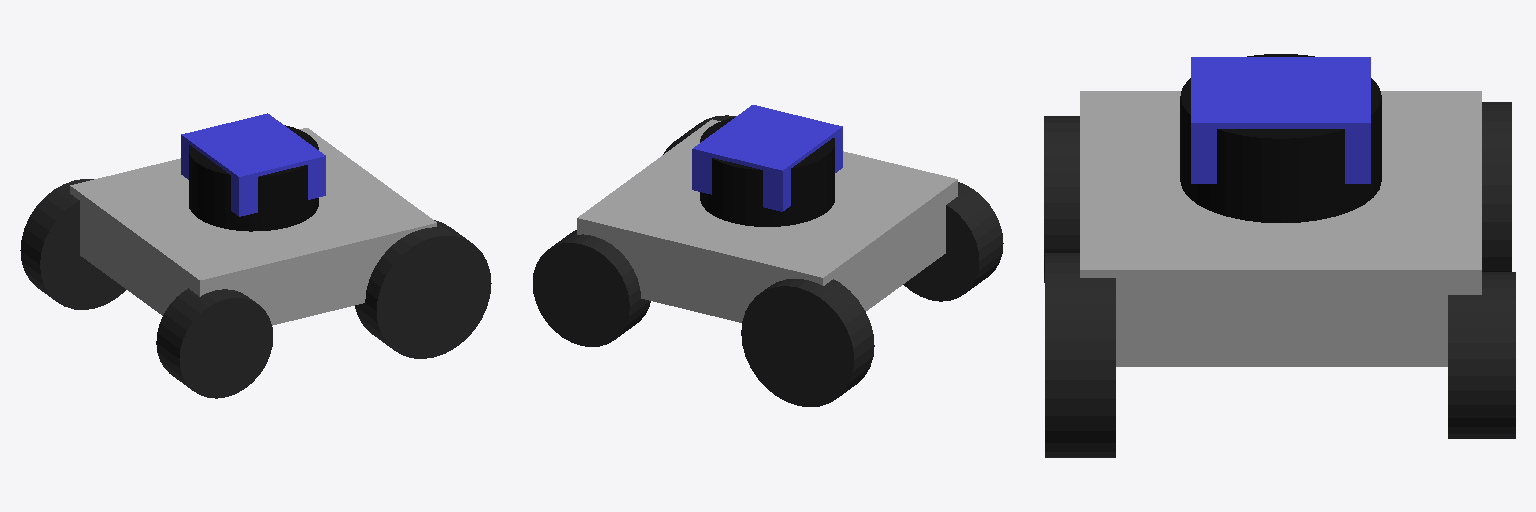
robot.urdf — evolved_robot:
<?xml version="1.0"?>
<robot name="evolved_robot">
  <material name="metal">
    <color rgba="0.7 0.7 0.7 1.0"/>
  </material>
  <material name="plastic">
    <color rgba="0.3 0.3 0.9 1.0"/>
  </material>
  <material name="rubber">
    <color rgba="0.1 0.1 0.1 1.0"/>
  </material>
  <material name="red">
    <color rgba="1.0 0.0 0.0 1.0"/>
  </material>
  <material name="wheel_material">
    <color rgba="0.2 0.2 0.2 1.0"/>
  </material>
  <link name="base_link">
    <visual>
      <geometry><box size="0.31971039084063424 0.30339100369254823 0.08068832829829782"/></geometry>
      <material name="metal"/>
    </visual>
    <collision>
      <geometry><box size="0.31971039084063424 0.30339100369254823 0.08068832829829782"/></geometry>
    </collision>
    <inertial>
      <mass value="5.0"/>
      <inertia ixx="0.08213058953762142" ixy="0" ixz="0" 
               iyy="0.09060445027920416" iyz="0" 
               izz="0.16188402927753578"/>
    </inertial>
  </link>
  <link name="link1">
    <visual>
      <geometry><cylinder radius="0.0760733366416902" length="0.14081779537643838"/></geometry>
      <material name="rubber"/>
    </visual>
    <collision>
      <geometry><cylinder radius="0.0760733366416902" length="0.14081779537643838"/></geometry>
    </collision>
    <inertial>
      <mass value="0.5"/>
      <inertia ixx="0.00309925909484002" ixy="0" ixz="0" 
               iyy="0.00309925909484002" iyz="0" 
               izz="0.0028935762738999627"/>
    </inertial>
  </link>
  <joint name="joint1" type="revolute">
    <parent link="base_link"/>
    <child link="link1"/>
    <origin xyz="0 0 0.04034416414914891" rpy="0 0 0"/>
    <axis xyz="-0.7854588657445142 -0.3565487144176985 0.5058926610165715"/>
    <dynamics damping="0.7728480284695484" friction="0.1"/>
    <limit lower="-2.146331162029103" upper="1.2717079639294546" effort="100" velocity="100"/>
  </joint>
  <link name="link2">
    <visual>
      <geometry>
        <cylinder radius="0.06322985314573629" length="0.05091720566736713"/>
      </geometry>
      <material name="wheel_material"/>
    </visual>
    <collision>
      <geometry>
        <cylinder radius="0.06322985314573629" length="0.05091720566736713"/>
      </geometry>
    </collision>
    <inertial>
      <mass value="1.0"/>
      <inertia ixx="0.001215550401622258" ixy="0" ixz="0" 
               iyy="0.001215550401622258" iyz="0" 
               izz="0.0019990071644156887"/>
    </inertial>
  </link>
  <joint name="joint2" type="continuous">
    <parent link="base_link"/>
    <child link="link2"/>
    <origin xyz="0.13985519542031713 0.15169550184627412 -0.04034416414914891" rpy="1.5708 0 0"/>
    <axis xyz="0 1 0"/>
    <dynamics damping="0.6237323492205411" friction="0.1"/>
  </joint>
  <link name="link3">
    <visual>
      <geometry><box size="0.11700741769070341 0.1357253377311918 0.051297581895815625"/></geometry>
      <material name="plastic"/>
    </visual>
    <collision>
      <geometry><box size="0.11700741769070341 0.1357253377311918 0.051297581895815625"/></geometry>
    </collision>
    <inertial>
      <mass value="0.5"/>
      <inertia ixx="0.0017544007675503322" ixy="0" ixz="0" 
               iyy="0.001360181475250387" iyz="0" 
               izz="0.002676008591407734"/>
    </inertial>
  </link>
  <joint name="joint3" type="prismatic">
    <parent link="base_link"/>
    <child link="link3"/>
    <origin xyz="0 0 0.09034416414914892" rpy="0 0 0"/>
    <axis xyz="0.19374155992245015 0.8413395049450949 -0.5045909683868293"/>
    <dynamics damping="0.8242507383232369" friction="0.1"/>
    <limit lower="-0.7410082810901961" upper="1.2169395730998822" effort="100" velocity="100"/>
  </joint>
  <link name="link4">
    <visual>
      <geometry>
        <cylinder radius="0.07741305339524476" length="0.053381387694305824"/>
      </geometry>
      <material name="wheel_material"/>
    </visual>
    <collision>
      <geometry>
        <cylinder radius="0.07741305339524476" length="0.053381387694305824"/>
      </geometry>
    </collision>
    <inertial>
      <mass value="1.0"/>
      <inertia ixx="0.0017356595883412365" ixy="0" ixz="0" 
               iyy="0.0017356595883412365" iyz="0" 
               izz="0.0029963904179875086"/>
    </inertial>
  </link>
  <joint name="joint4" type="continuous">
    <parent link="base_link"/>
    <child link="link4"/>
    <origin xyz="0.13985519542031713 -0.15169550184627412 -0.04034416414914891" rpy="1.5708 0 0"/>
    <axis xyz="0 1 0"/>
    <dynamics damping="0.44569916604228654" friction="0.1"/>
  </joint>
  <link name="link5">
    <visual>
      <geometry>
        <cylinder radius="0.07342839007796728" length="0.04564237764543373"/>
      </geometry>
      <material name="wheel_material"/>
    </visual>
    <collision>
      <geometry>
        <cylinder radius="0.07342839007796728" length="0.04564237764543373"/>
      </geometry>
    </collision>
    <inertial>
      <mass value="1.0"/>
      <inertia ixx="0.0015215343371212302" ixy="0" ixz="0" 
               iyy="0.0015215343371212302" iyz="0" 
               izz="0.002695864234721062"/>
    </inertial>
  </link>
  <joint name="joint5" type="continuous">
    <parent link="base_link"/>
    <child link="link5"/>
    <origin xyz="-0.13985519542031713 0.15169550184627412 -0.04034416414914891" rpy="1.5708 0 0"/>
    <axis xyz="0 1 0"/>
    <dynamics damping="0.4505512195078252" friction="0.1"/>
  </joint>
  <link name="link6">
    <visual>
      <geometry>
        <cylinder radius="0.06328409715618377" length="0.05400195749273819"/>
      </geometry>
      <material name="wheel_material"/>
    </visual>
    <collision>
      <geometry>
        <cylinder radius="0.06328409715618377" length="0.05400195749273819"/>
      </geometry>
    </collision>
    <inertial>
      <mass value="1.0"/>
      <inertia ixx="0.0012442368559722854" ixy="0" ixz="0" 
               iyy="0.0012442368559722854" iyz="0" 
               izz="0.0020024384764366536"/>
    </inertial>
  </link>
  <joint name="joint6" type="continuous">
    <parent link="base_link"/>
    <child link="link6"/>
    <origin xyz="-0.13985519542031713 -0.15169550184627412 -0.04034416414914891" rpy="1.5708 0 0"/>
    <axis xyz="0 1 0"/>
    <dynamics damping="0.5123224953931355" friction="0.1"/>
  </joint>
</robot>

--- Render facts (derived) ---
3 views of the same robot in one strip: view 1: azimuth 30°, elevation 25°; view 2: azimuth 150°, elevation 25°; view 3: azimuth 270°, elevation 25° (orthographic).
Model evolved_robot with 7 links and 6 joints (1 revolute, 4 continuous, 1 prismatic), rooted at base_link, posed every joint at zero.
Links seen in each view (by area): view 1: base_link, link4, link6, link3, link5, link1; view 2: base_link, link5, link2, link3, link1, link6; view 3: base_link, link3, link1, link4, link2, link5, link6.
Link boxes in pixels (x1,y1,x2,y2): base_link: (70,128,436,325); link4: (355,220,491,358); link6: (156,288,272,398); link3: (181,113,325,216); link5: (20,179,125,309); link1: (189,125,318,231); base_link: (577,119,957,322); link5: (741,279,874,406); link2: (533,230,650,346); link3: (692,105,842,211); link1: (700,117,834,226); link6: (903,182,1003,301); base_link: (1080,91,1481,366); link3: (1191,57,1370,183); link1: (1180,54,1381,222); link4: (1045,253,1115,457); link2: (1448,272,1515,438); link5: (1482,102,1511,271); link6: (1044,116,1079,282).
Bounding box of the posed robot: 0.4306 × 0.3559 × 0.2338 m (x, y, z).
Geometry: primitives only (box / cylinder / sphere), no mesh files.